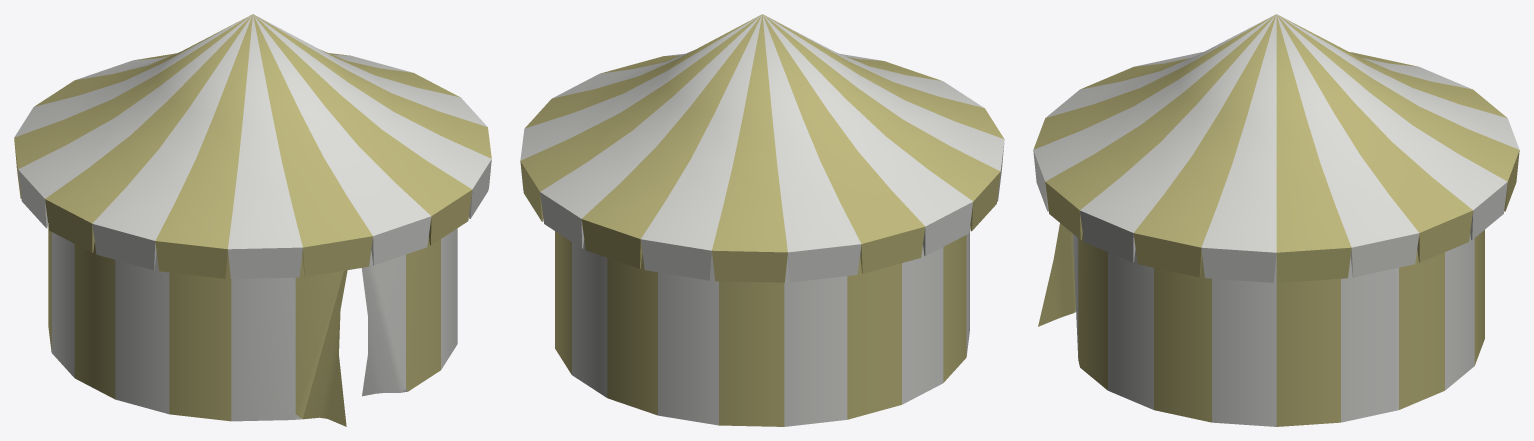
The model's file is TentYellow.fbx.
3 views of the same model, side by side, from view 1: azimuth 30°, elevation 25°; view 2: azimuth 150°, elevation 25°; view 3: azimuth 270°, elevation 25° (orthographic).
Visible parts, largest first — view 1: TentYellow; view 2: TentYellow; view 3: TentYellow.
Boxes of the visible parts, x1=… form: TentYellow: x1=14, y1=14, x2=491, y2=426; TentYellow: x1=520, y1=14, x2=1004, y2=426; TentYellow: x1=1033, y1=14, x2=1519, y2=426.
Bounding box in the file's own units: 7 × 5.16 × 7.
